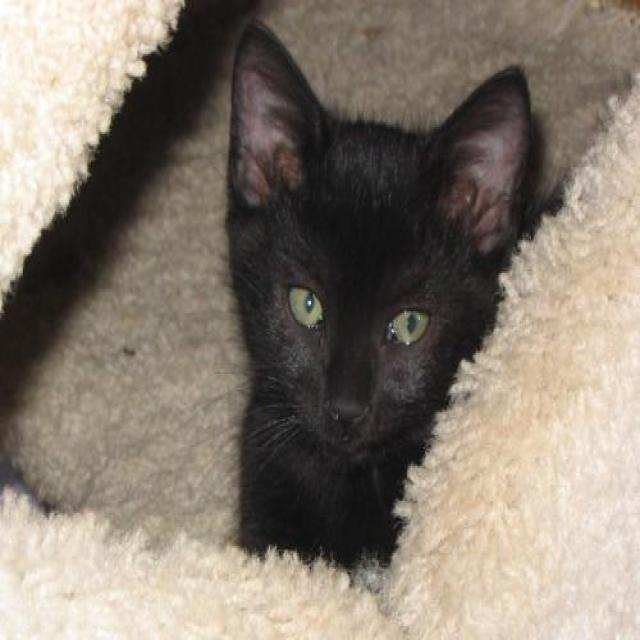Cats: (221, 14, 539, 584)
